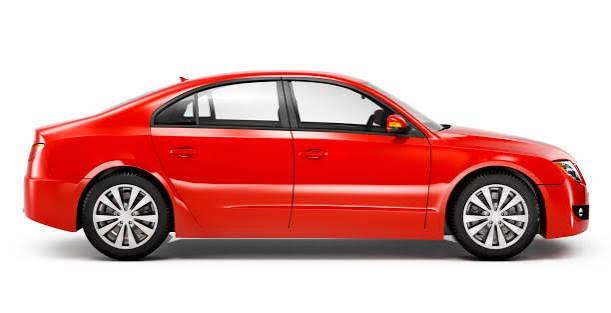car: (13, 66, 593, 255), (28, 76, 589, 260)
